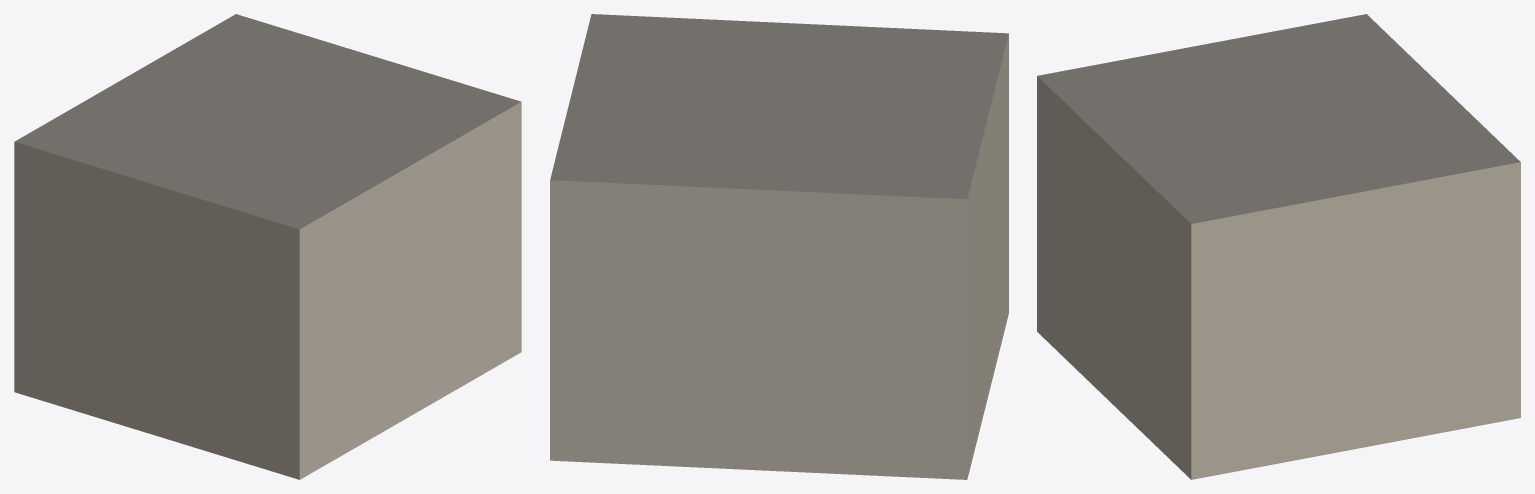
The picture shows the model from 3 angles, left to right: view 1: azimuth 30°, elevation 25°; view 2: azimuth 150°, elevation 25°; view 3: azimuth 270°, elevation 25°; orthographic projection. The views are drawn at different scales.
Parts seen in each view (by area): view 1: HP-w1202250232; view 2: HP-w1202250232; view 3: HP-w1202250232.
Part boxes in pixels (bbox=[...]): HP-w1202250232: bbox=[14, 14, 521, 479]; HP-w1202250232: bbox=[550, 14, 1008, 479]; HP-w1202250232: bbox=[1037, 14, 1520, 479].
Bounding box in the file's own units: 21.12 × 12 × 20.56.
